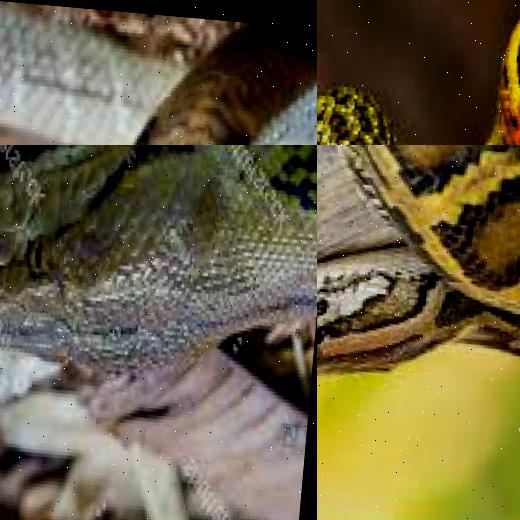snake: (0, 145, 317, 398), (317, 145, 520, 450), (0, 0, 317, 145), (317, 0, 520, 145)
